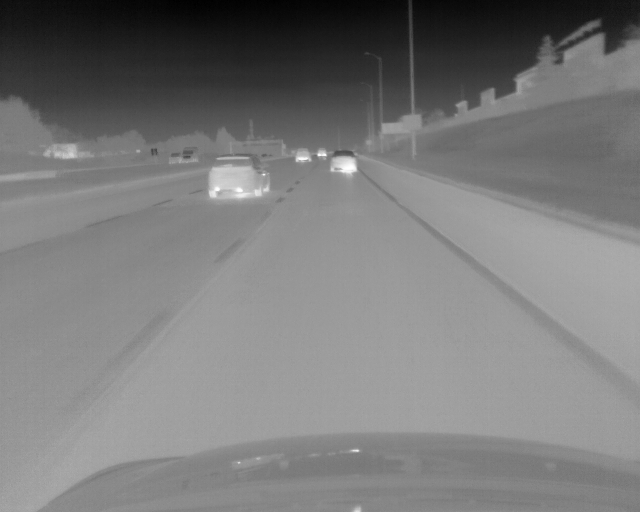car: (208, 154, 271, 197), (330, 150, 357, 173), (182, 146, 198, 163), (294, 148, 311, 163), (169, 152, 180, 164), (317, 147, 326, 157)
